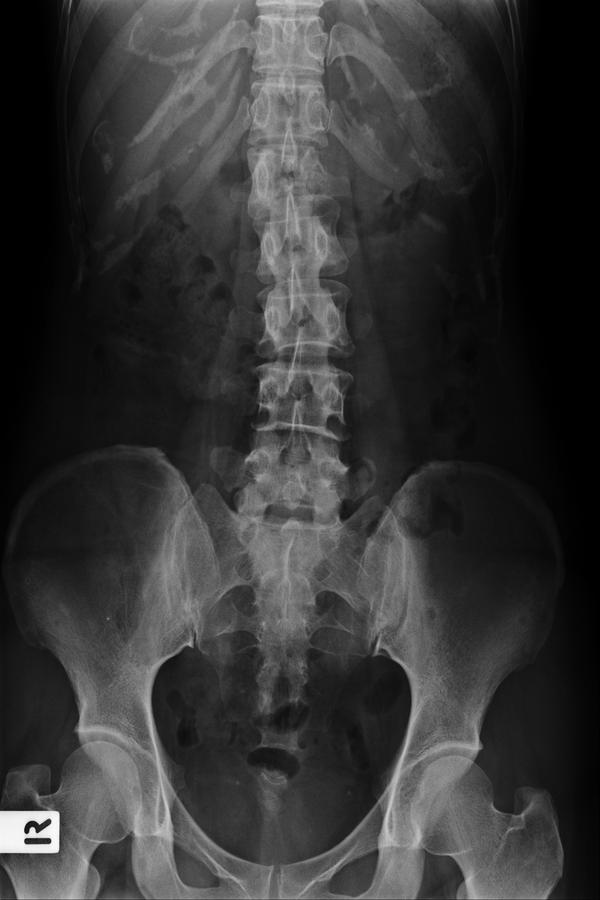lumbar scoliosis: (230, 165, 365, 555)
